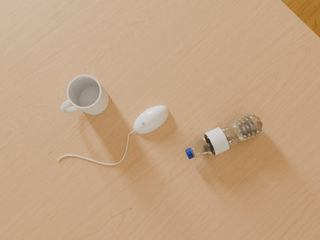bottle: (185, 113, 264, 159)
cup: (60, 75, 109, 115)
mouse: (134, 106, 169, 134)
